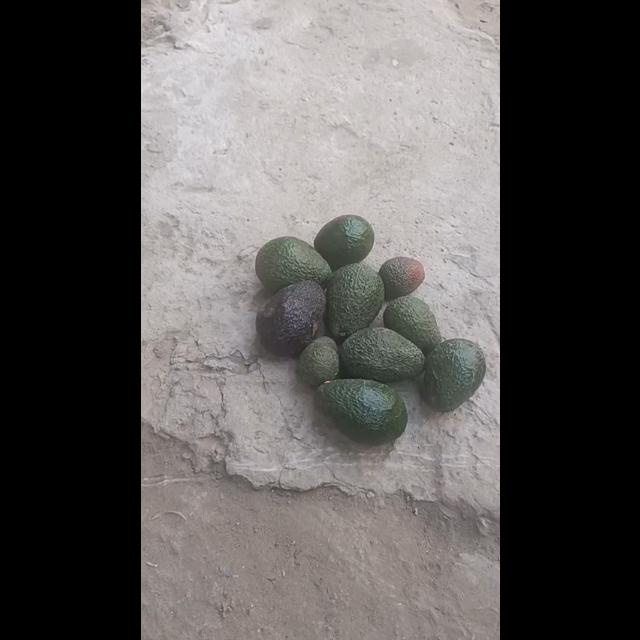Primera: (316, 376, 406, 444), (254, 280, 326, 356), (324, 262, 384, 342), (420, 338, 484, 412), (340, 327, 424, 383), (254, 236, 328, 294)
Segunda: (382, 295, 440, 355), (313, 214, 375, 270)
Tercera: (296, 336, 340, 386), (378, 256, 427, 300)
